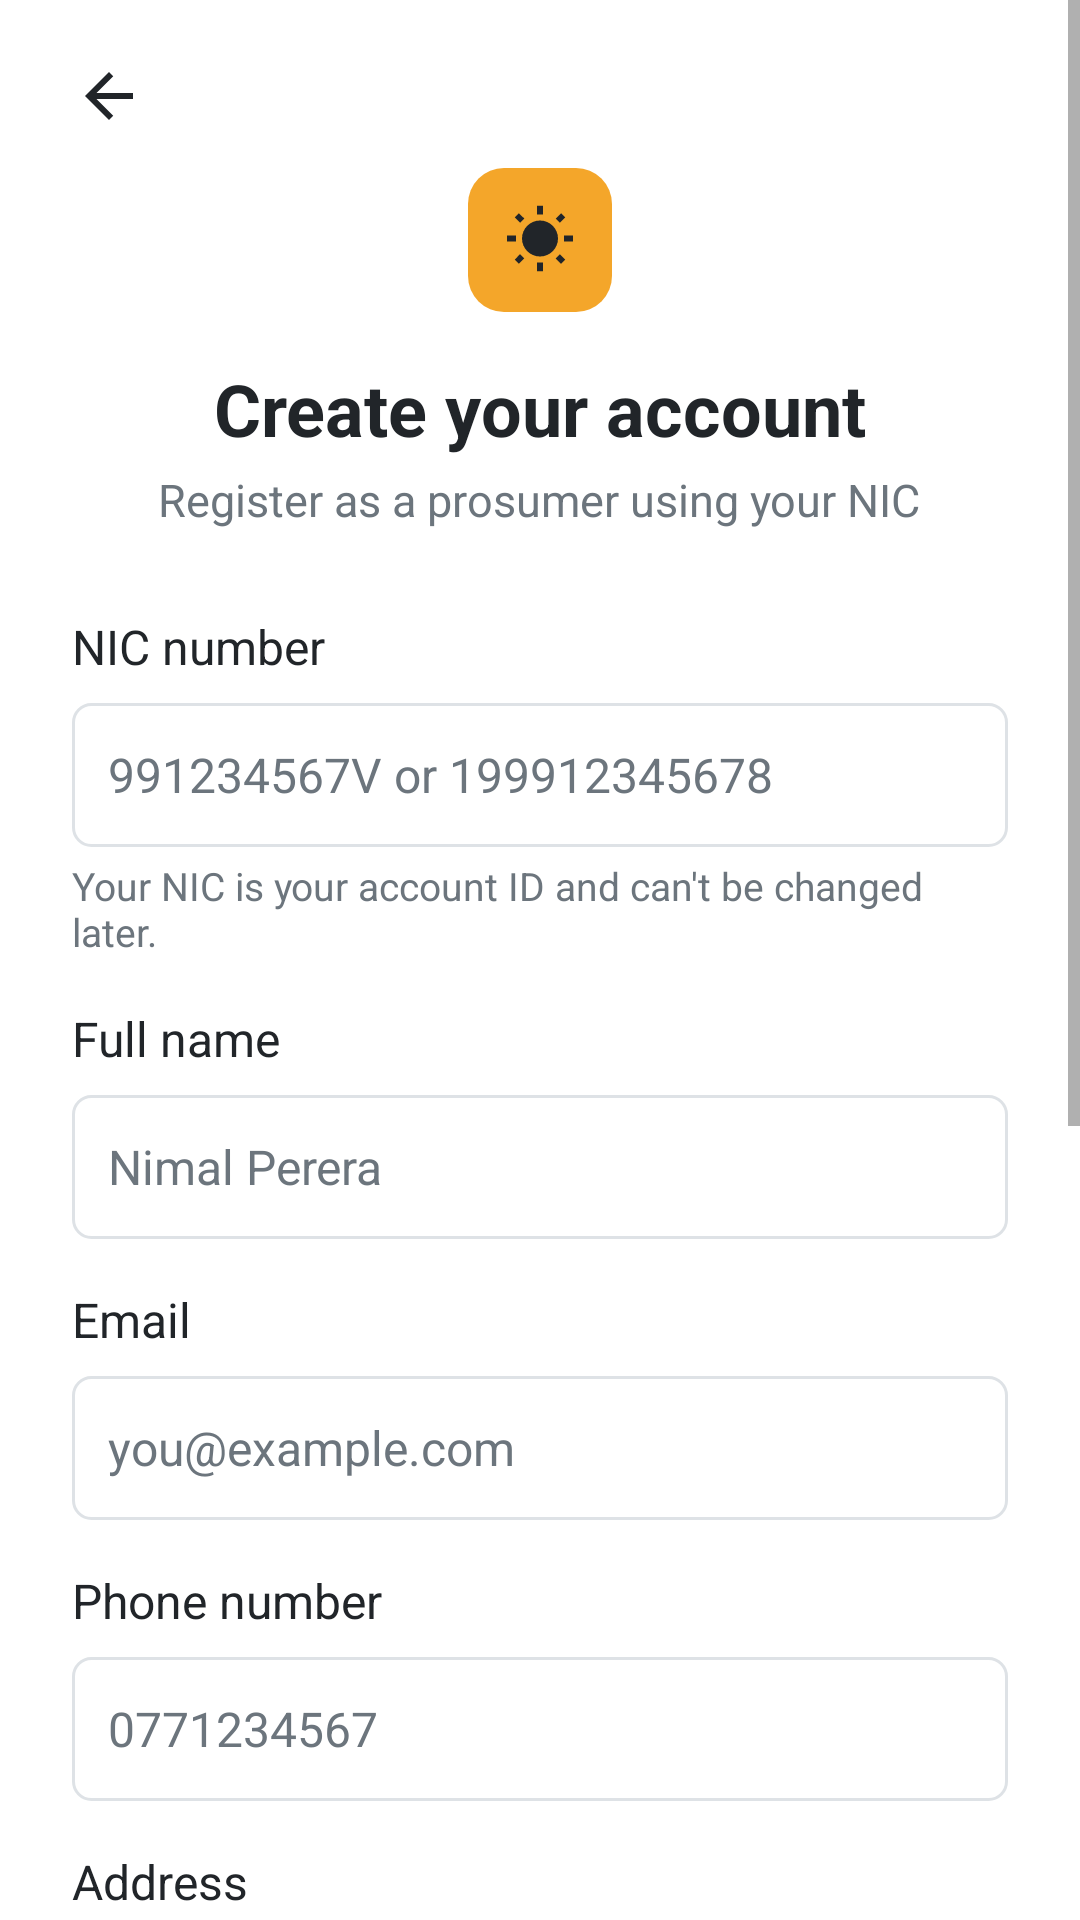

Where to tap for icons on this 1080 × 1920 app screen, as (x=x, y=y):
Back to sign in: (x=109, y=96)
